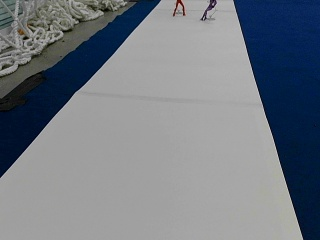pedestrian: (199, 0, 216, 20), (171, 0, 186, 16)
